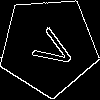V: (23, 21, 79, 75)
